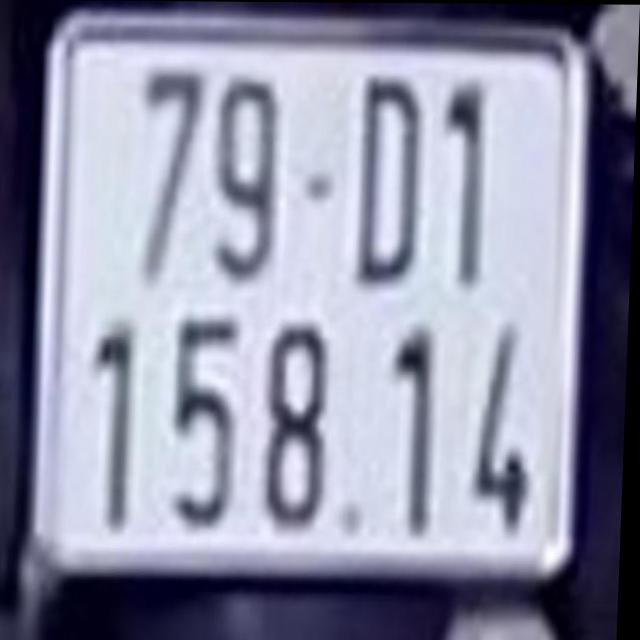1: (437, 71, 492, 279), (88, 316, 140, 525), (390, 314, 439, 534)
4: (476, 314, 542, 534)
5: (173, 311, 246, 527)
7: (136, 68, 209, 281)
8: (270, 323, 333, 523)
9: (212, 73, 282, 277)
D: (355, 71, 429, 285)
